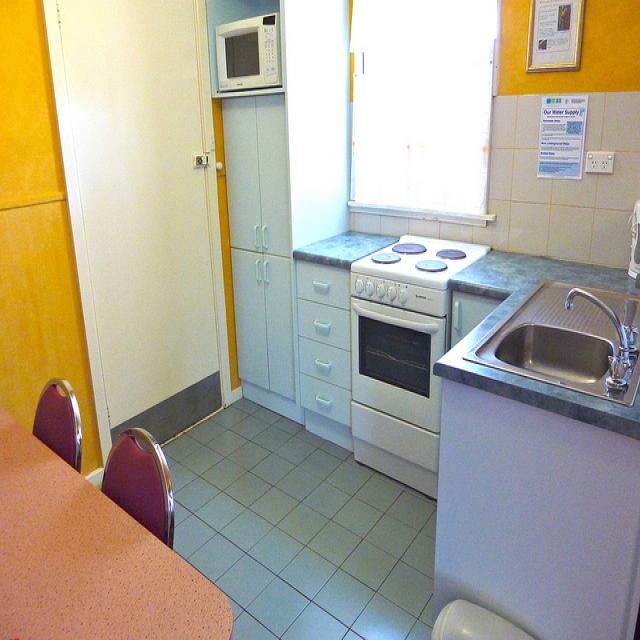chair: (99, 428, 175, 549), (32, 378, 82, 473)
dining table: (0, 391, 229, 631)
